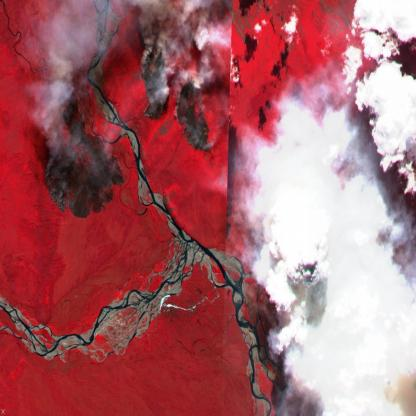fire: (268, 196, 369, 344), (39, 86, 127, 222), (137, 23, 216, 162)
